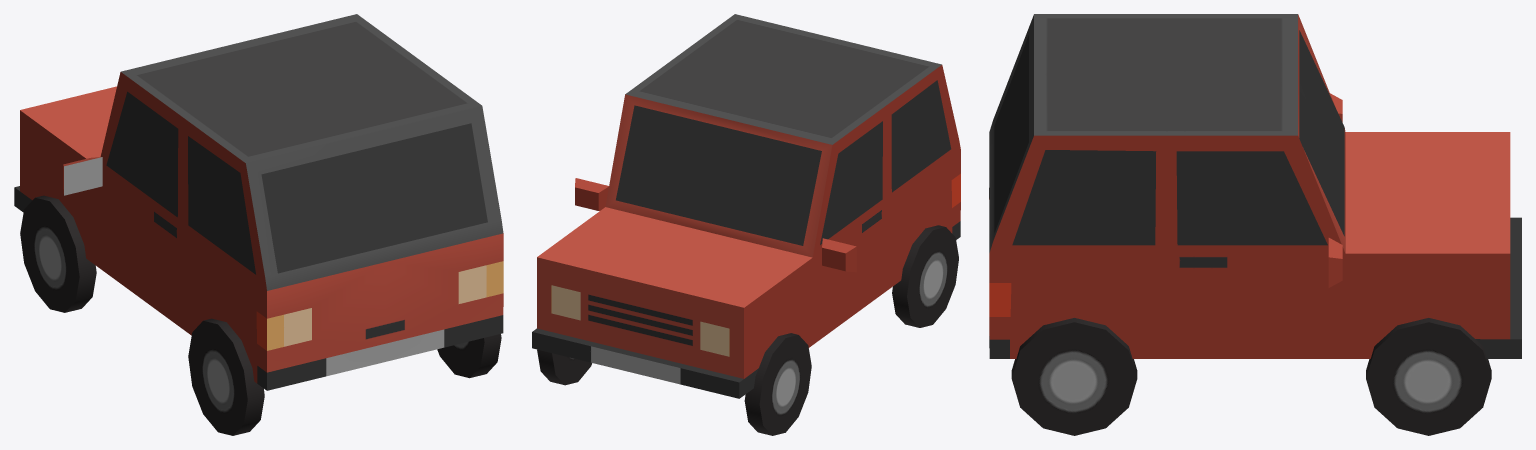
Rendered from red4x4.glb.
3 views of the same model, side by side, from view 1: azimuth 30°, elevation 25°; view 2: azimuth 150°, elevation 25°; view 3: azimuth 270°, elevation 25° (orthographic). The views are drawn at different scales.
Visible parts, largest first — view 1: small4x4_red_prefab; view 2: small4x4_red_prefab; view 3: small4x4_red_prefab.
Part boxes in pixels (<box>): small4x4_red_prefab: <box>14,14,503,435</box>; small4x4_red_prefab: <box>532,14,960,435</box>; small4x4_red_prefab: <box>989,14,1521,435</box>.
Size of the model in its own units: 3.41 by 2.86 by 4.66.
1 material, 1 textured.
